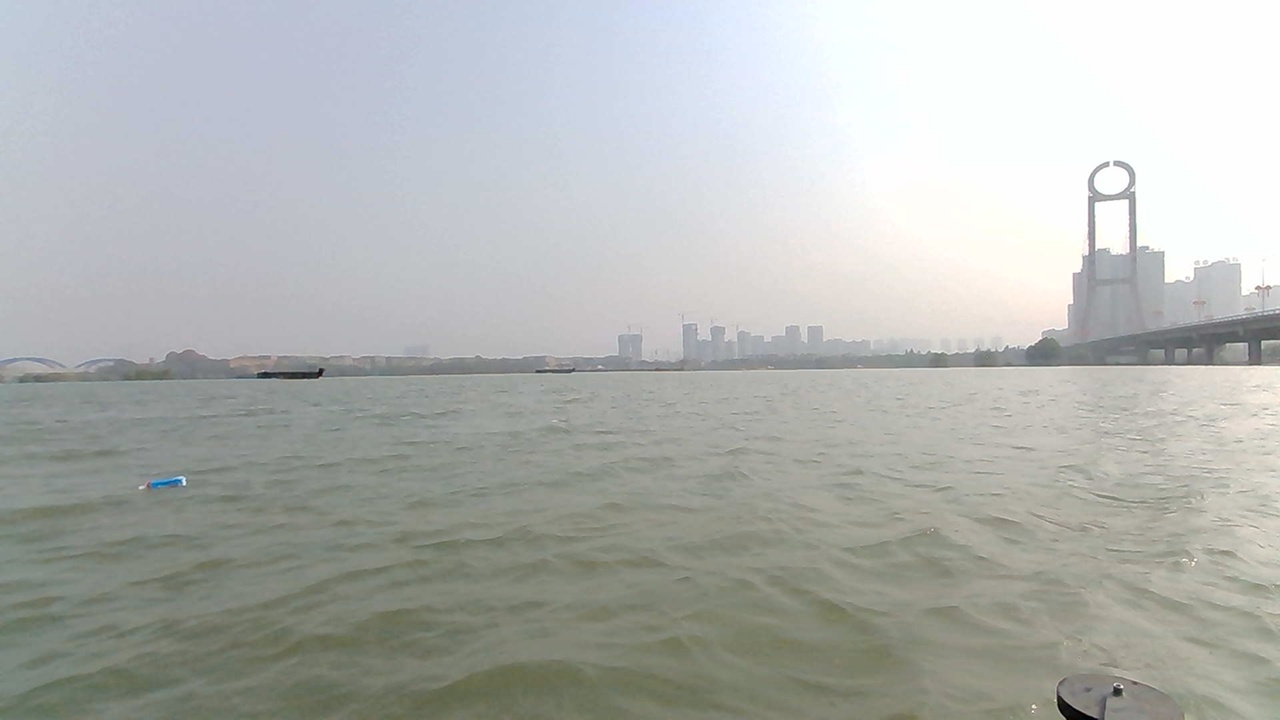bottle: (134, 470, 197, 501)
